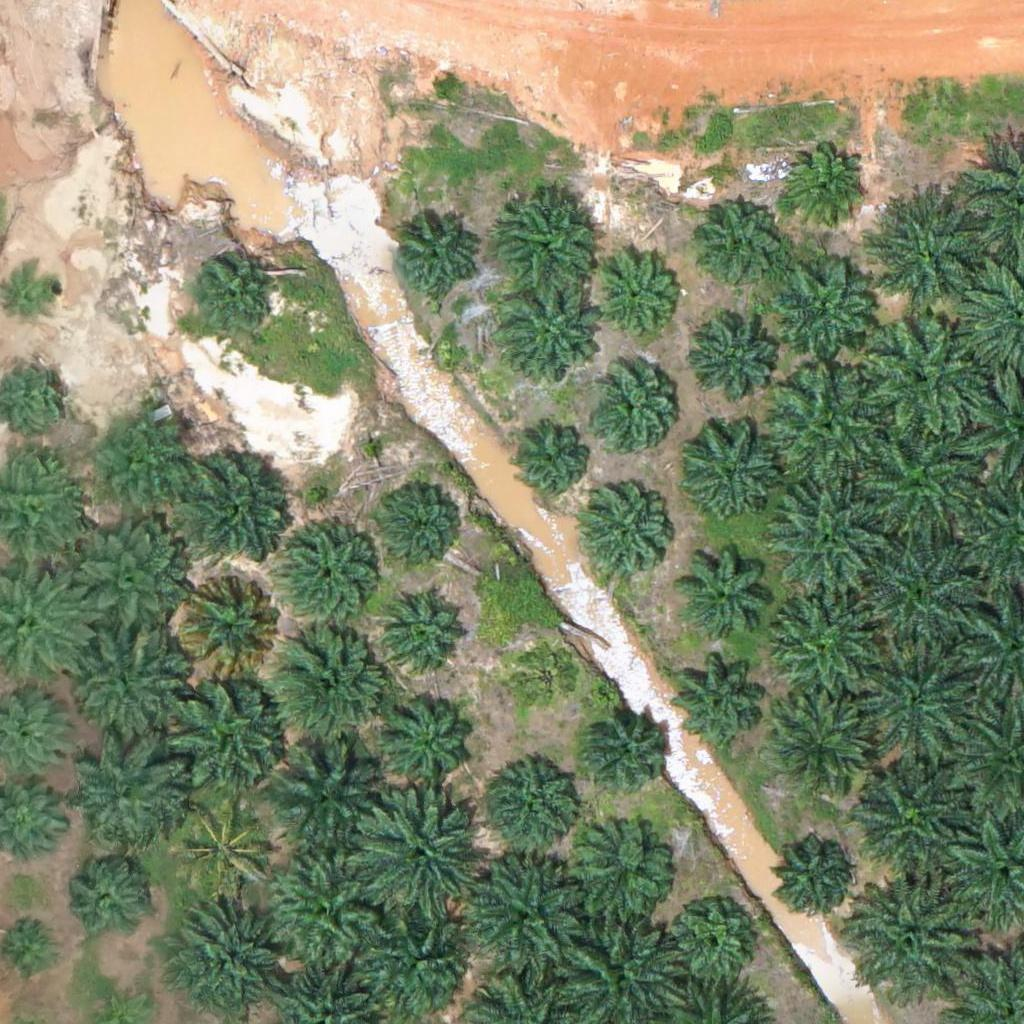Kelapa_Sawit: (870, 187, 995, 313), (865, 312, 990, 438), (858, 415, 983, 541), (859, 528, 984, 654), (855, 636, 980, 762), (844, 874, 969, 1000), (767, 361, 892, 487), (171, 441, 296, 567), (165, 675, 290, 801), (68, 622, 193, 748), (65, 728, 190, 854), (267, 617, 392, 743), (263, 848, 388, 974), (170, 895, 295, 1021), (351, 791, 476, 917), (456, 855, 581, 981), (60, 521, 185, 646), (266, 733, 391, 858), (166, 789, 279, 903), (849, 758, 962, 871), (173, 570, 286, 683), (563, 823, 676, 936), (85, 404, 197, 518), (274, 520, 386, 634), (765, 685, 877, 798), (769, 578, 881, 691), (769, 477, 881, 590), (777, 259, 877, 360), (673, 540, 773, 641), (672, 647, 772, 748), (500, 283, 600, 384), (496, 190, 596, 291), (375, 685, 475, 786), (478, 760, 578, 861), (678, 421, 778, 521), (668, 898, 756, 986), (699, 200, 787, 288), (592, 255, 680, 343), (589, 368, 677, 456), (581, 491, 669, 579), (391, 215, 479, 303), (580, 702, 667, 791), (190, 256, 277, 344), (509, 415, 596, 503), (779, 143, 866, 231), (693, 319, 780, 407), (60, 855, 147, 943), (383, 585, 470, 673), (378, 480, 465, 568), (509, 638, 584, 714), (775, 841, 850, 916), (3, 264, 65, 327)
